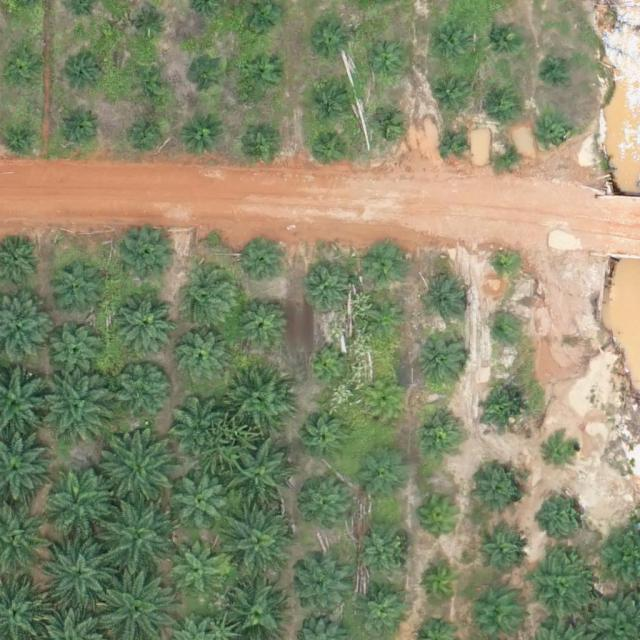Healthy: (104, 501, 182, 580), (41, 534, 119, 613), (42, 363, 120, 442), (101, 435, 179, 513), (225, 510, 296, 581), (527, 553, 597, 623), (227, 370, 290, 433), (231, 448, 293, 511), (49, 472, 112, 534), (179, 268, 241, 330), (113, 289, 175, 351), (177, 330, 232, 386), (354, 529, 409, 584), (296, 560, 351, 615), (170, 543, 225, 598), (176, 477, 231, 532), (117, 362, 172, 417), (122, 227, 177, 282), (48, 324, 103, 379), (300, 478, 354, 533), (170, 398, 224, 453), (302, 261, 356, 316), (236, 297, 290, 352), (47, 262, 101, 317), (421, 335, 468, 383)
Small: (473, 466, 528, 521), (475, 527, 529, 582), (239, 240, 286, 288), (417, 560, 464, 608), (301, 415, 348, 462), (361, 455, 408, 502), (421, 275, 468, 322), (416, 409, 463, 456), (419, 492, 466, 539), (477, 388, 524, 435), (541, 490, 588, 537), (310, 130, 350, 170), (62, 106, 102, 145), (133, 65, 172, 105), (240, 120, 280, 159), (188, 57, 227, 97), (366, 243, 405, 283), (370, 303, 409, 343), (367, 45, 406, 85), (485, 85, 525, 124), (486, 19, 525, 59), (432, 75, 471, 115), (182, 117, 221, 156), (431, 25, 470, 64), (130, 117, 169, 156), (313, 82, 352, 121), (7, 48, 46, 87), (242, 53, 281, 92), (307, 345, 346, 384), (65, 57, 104, 96), (311, 22, 350, 61), (370, 107, 409, 146), (544, 433, 583, 472), (440, 129, 471, 161), (494, 142, 525, 174), (138, 11, 169, 42), (538, 121, 569, 152), (545, 55, 576, 86), (490, 251, 521, 282), (487, 318, 518, 349)
Yellow: (363, 382, 403, 422)
